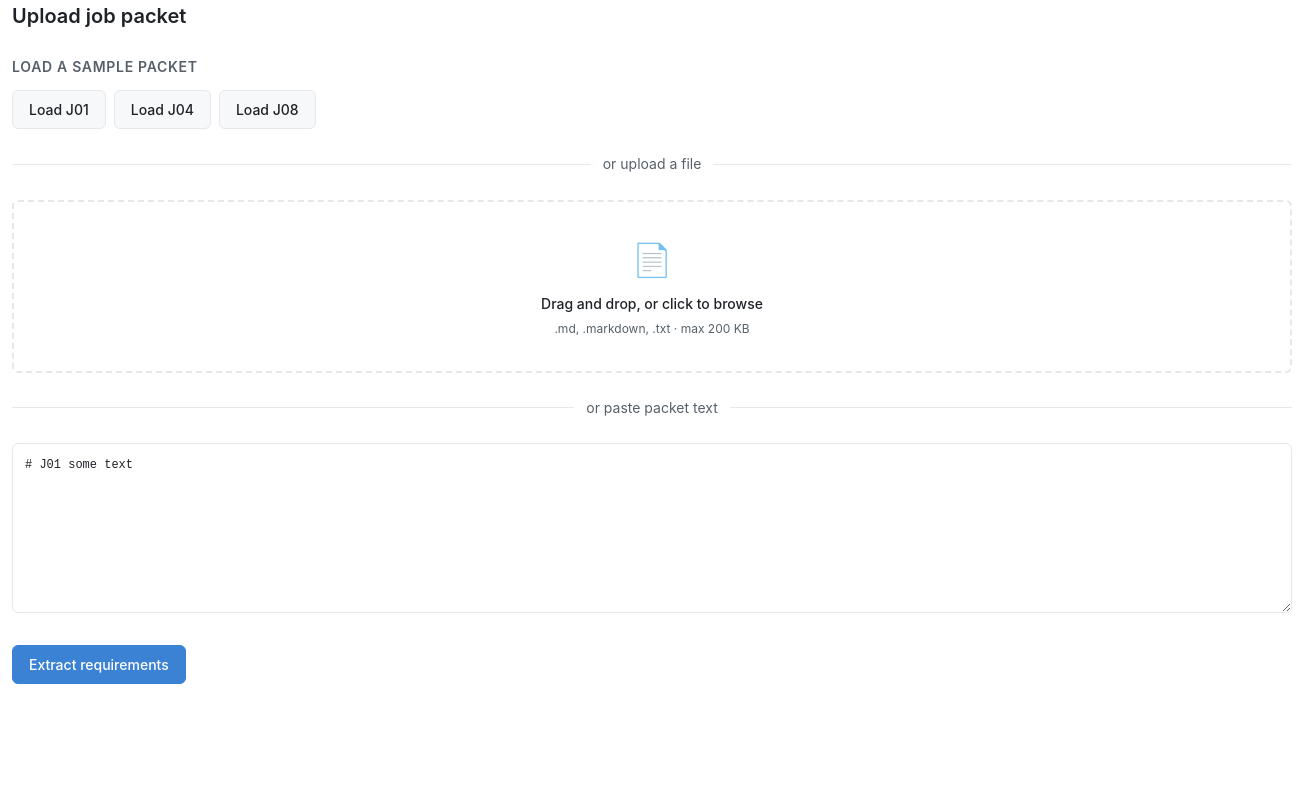
Test: UploadScreen › shows invalid_response message
What coordinates should you click on to do the following:
click the button "Extract requirements"
I would click on:
 (99, 664)
Its box is [12,644,186,684].
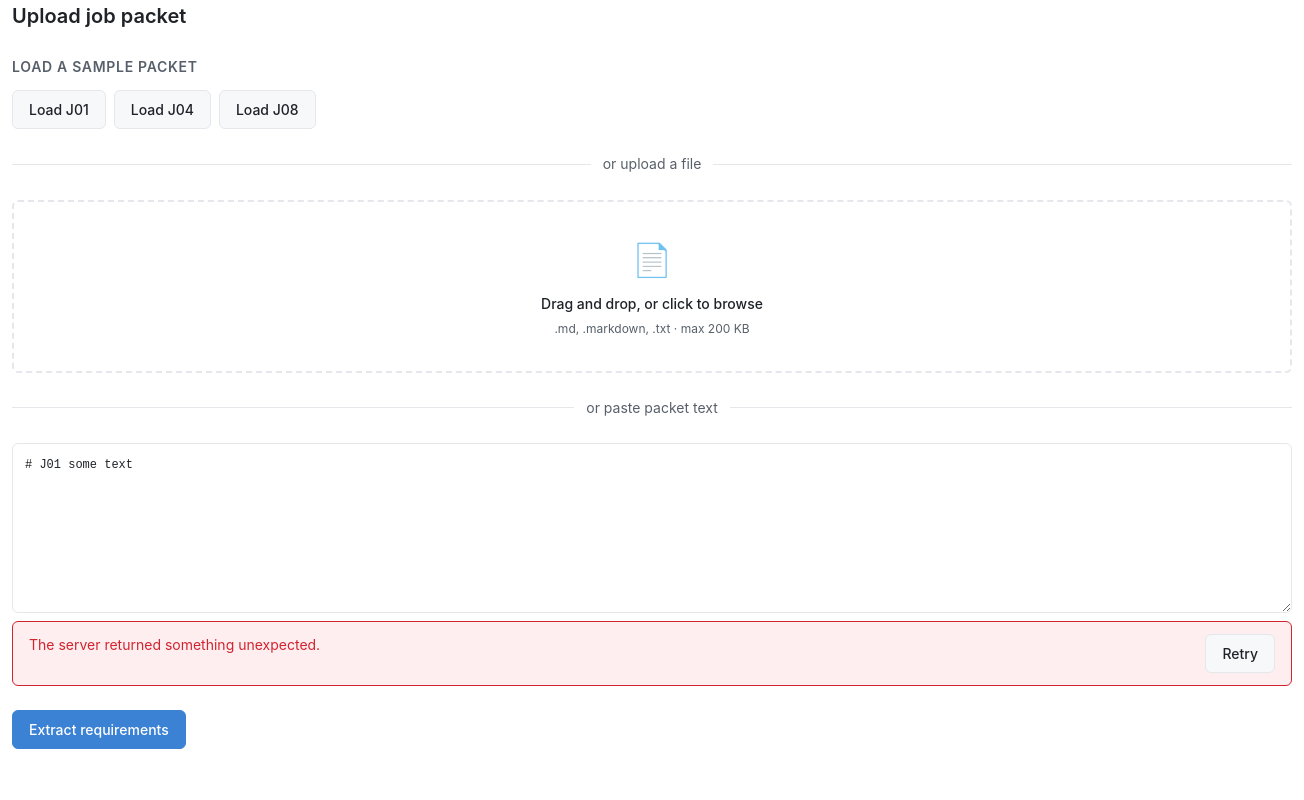
Expected: the text "The server returned something unexpected." is shown, [29,636,320,652]
